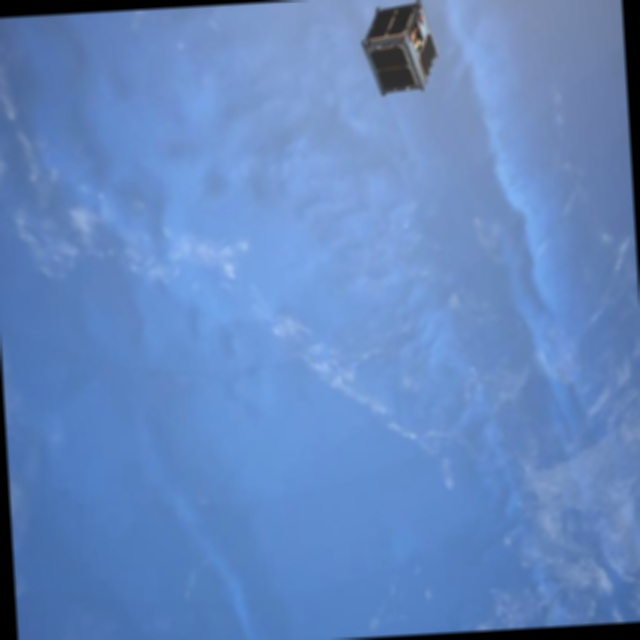medium_debris: (362, 0, 444, 98)
